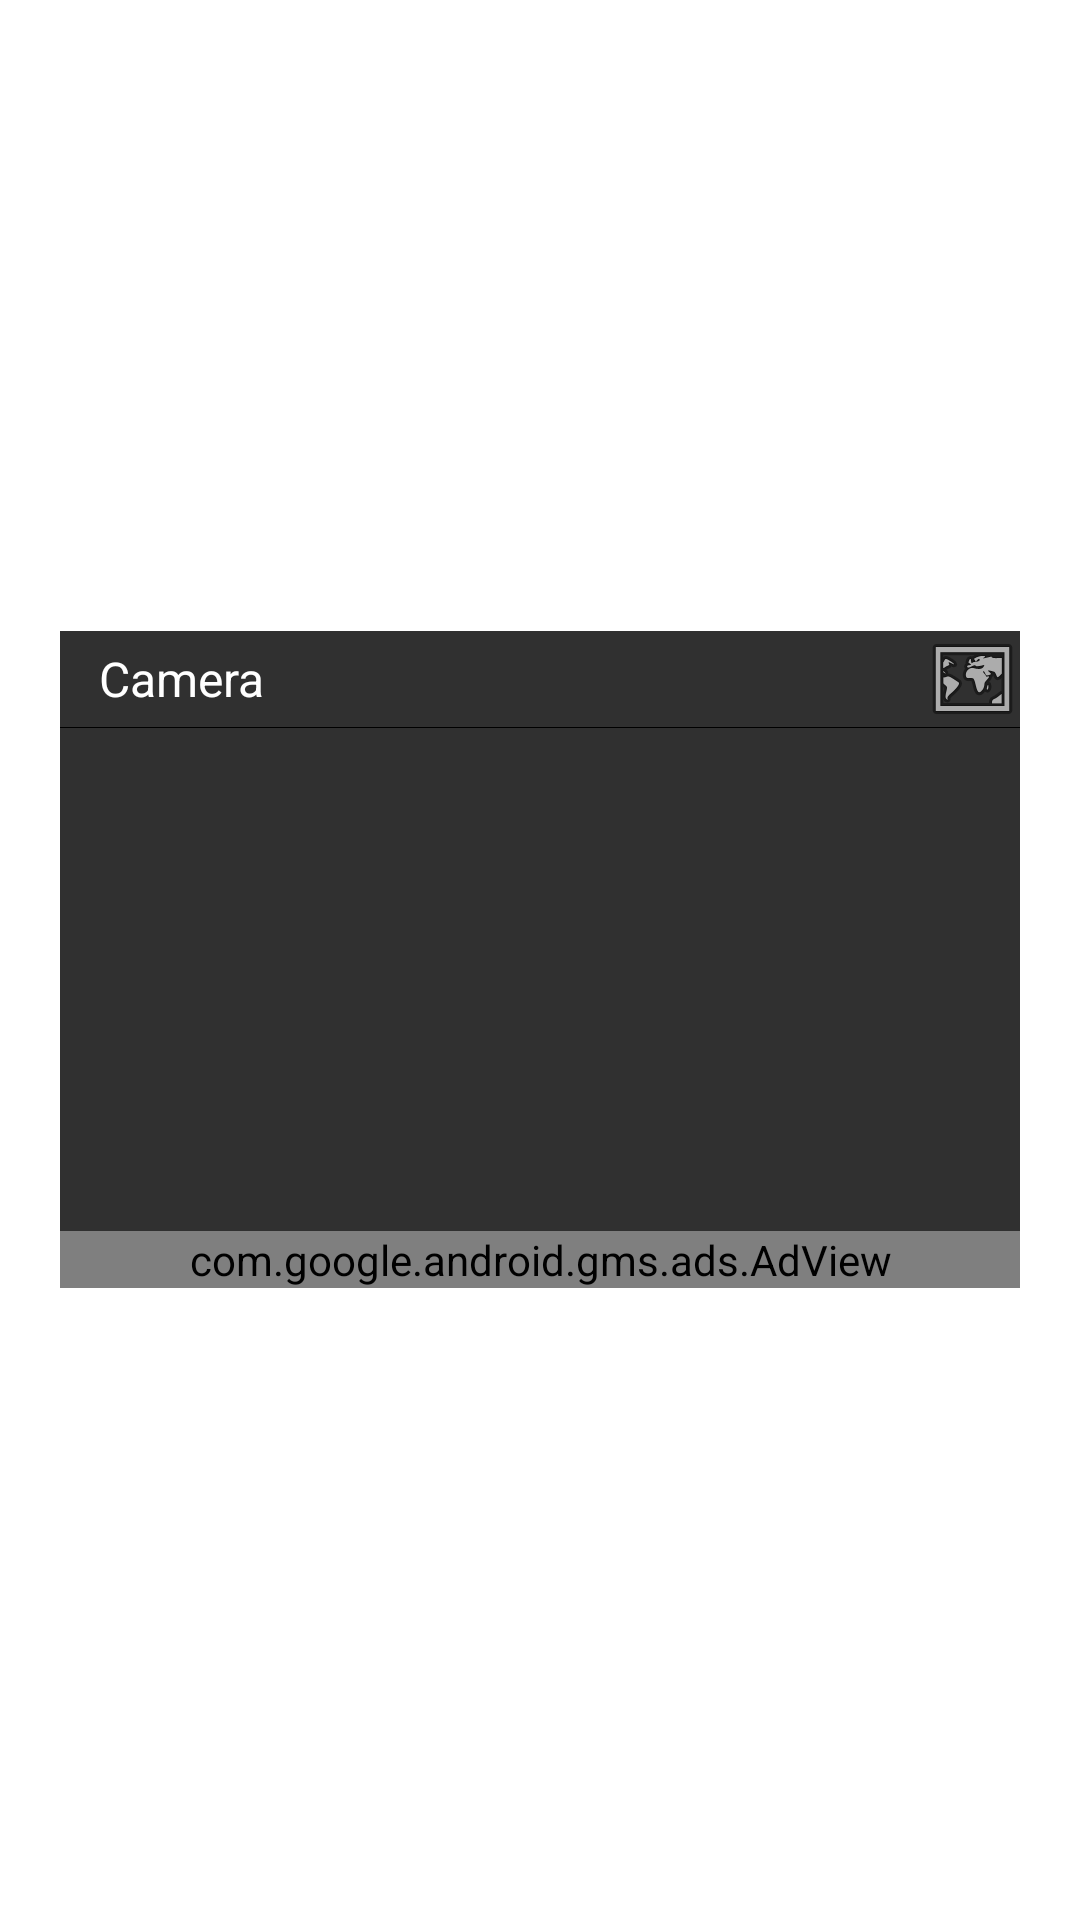

Icon click points for this 1080px×1920px phone screenshot, format (x=x, y=y):
mapmode: (x=972, y=679)
